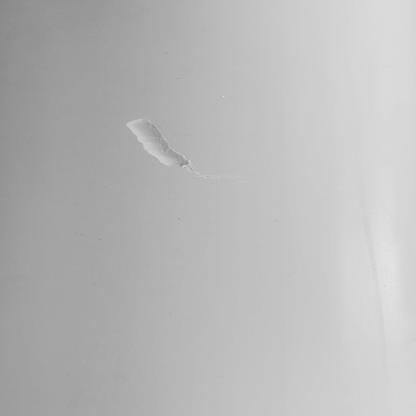sunshang: (125, 119, 191, 174)
